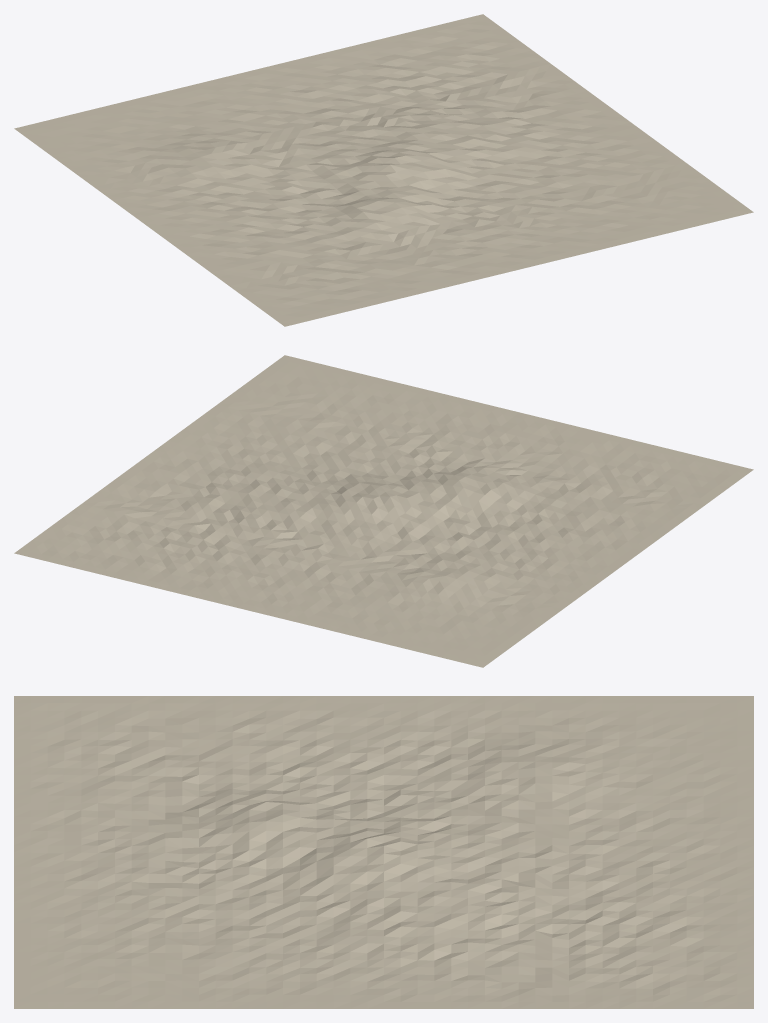
File: Ground_m_08.fbx
The picture shows the model from 3 angles, top to bottom: view 1: azimuth 30°, elevation 25°; view 2: azimuth 150°, elevation 25°; view 3: azimuth 270°, elevation 25°; orthographic projection. The views are drawn at different scales.
Visible parts, largest first — view 1: Ground_m_08; view 2: Ground_m_08; view 3: Ground_m_08.
Part boxes in pixels (x1,y1,x2,y2): Ground_m_08: (14, 14, 753, 326); Ground_m_08: (14, 355, 753, 667); Ground_m_08: (14, 696, 753, 1008).
Bounding box in the file's own units: 10000 × 273 × 10000.
